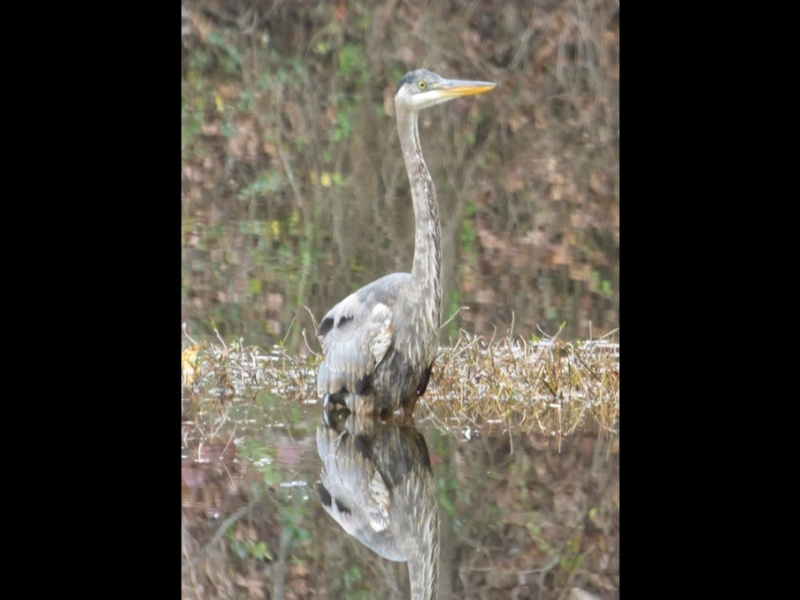heron: (315, 66, 501, 434)
